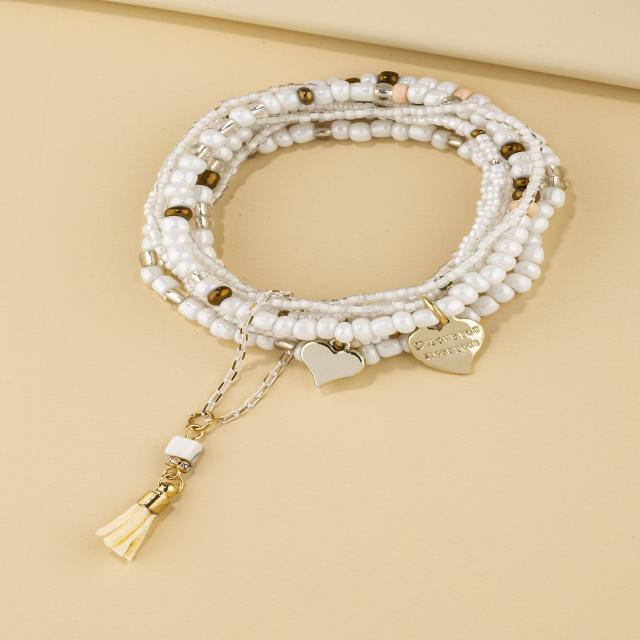bracelet: (43, 36, 585, 598)
